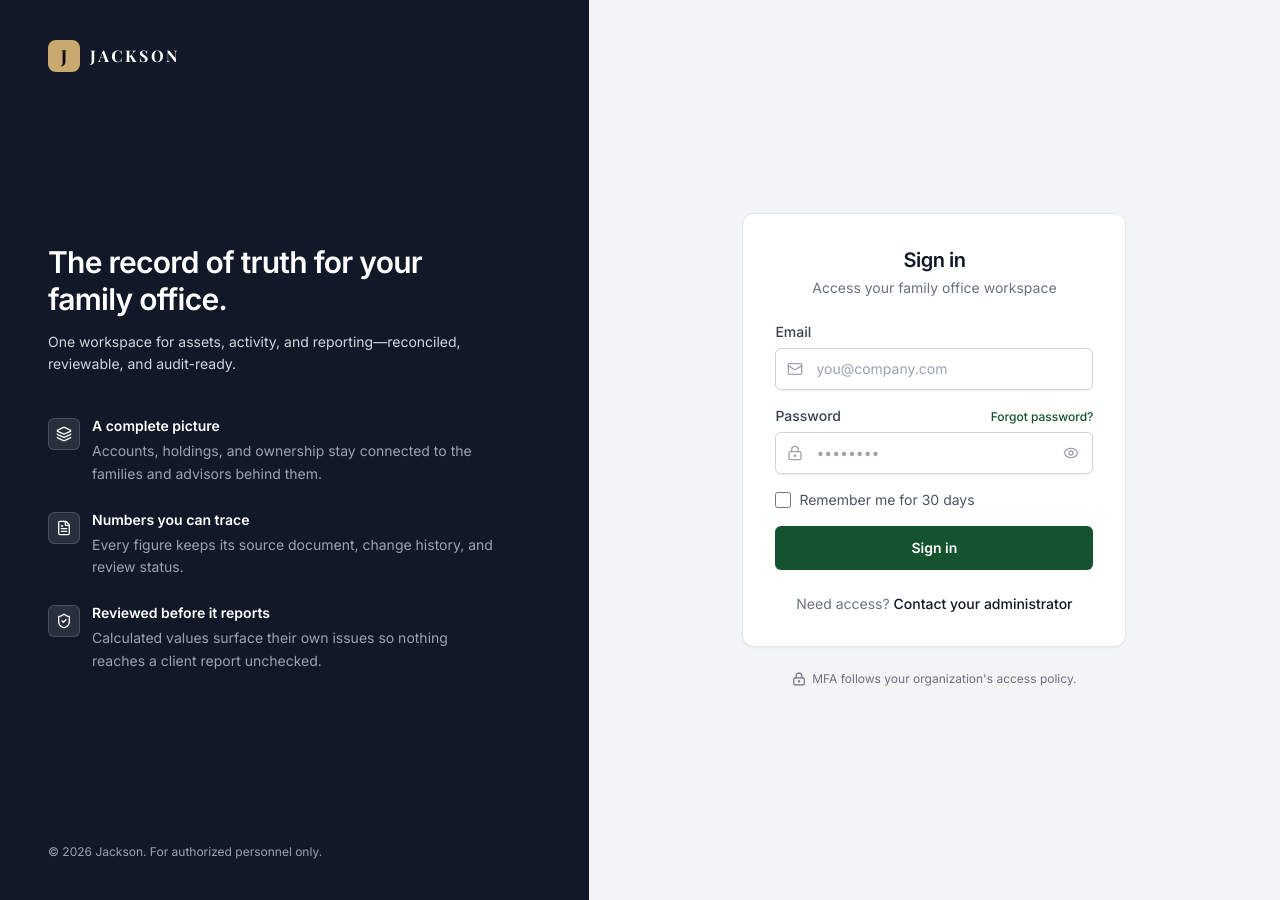
LoginPage current flow › stores enrollment state and opens MFA setup without authenticating
Step 1. Type "advisor@example.com" into the field labelled "Email" → coordinates (934, 369), box [775, 348, 1093, 390]
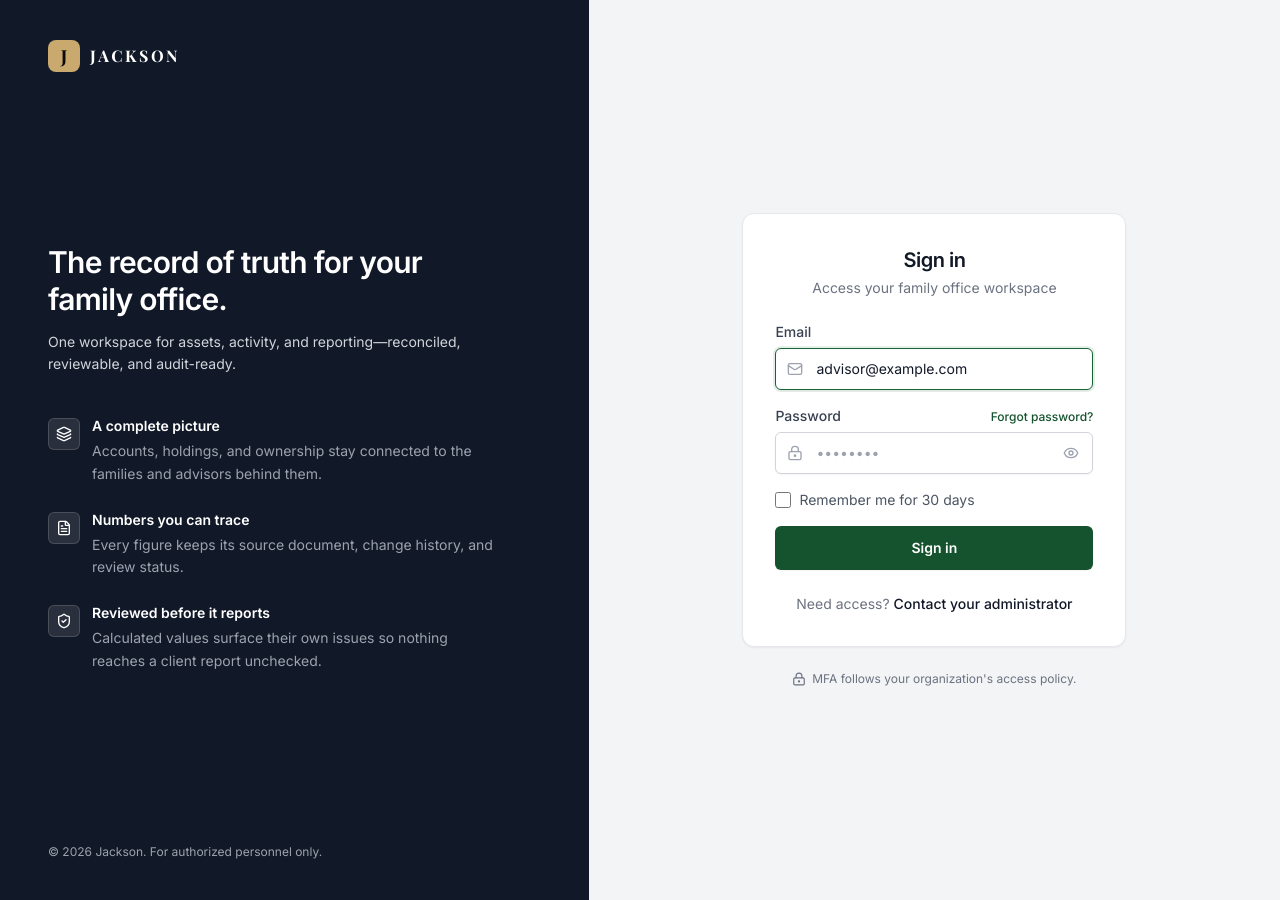
Step 2. Type "Password123!" into the password field labelled "Password" → coordinates (934, 453), box [775, 432, 1093, 474]
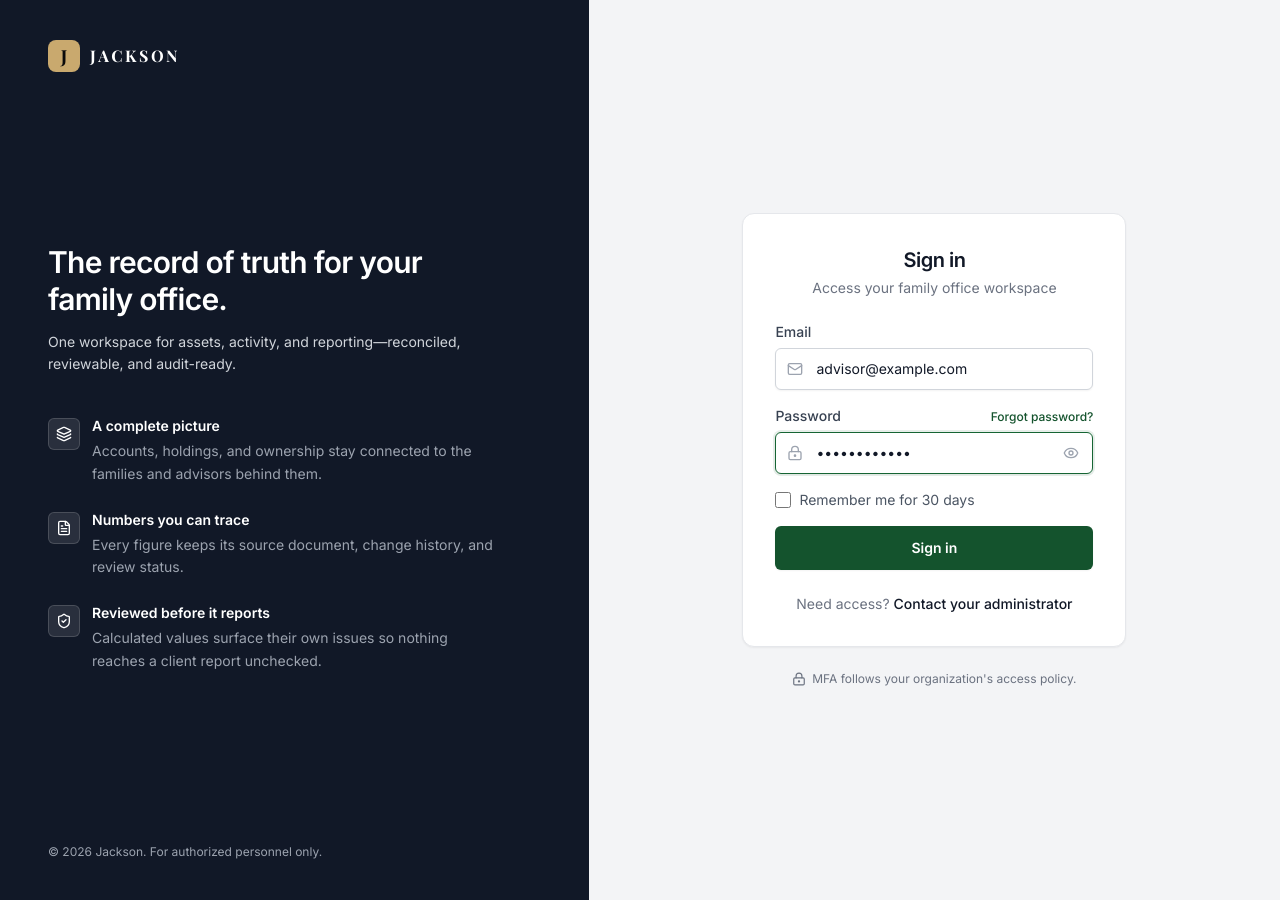
Step 3. Click the button "Sign in" → coordinates (934, 548), box [775, 526, 1093, 570]
(page scrolled)
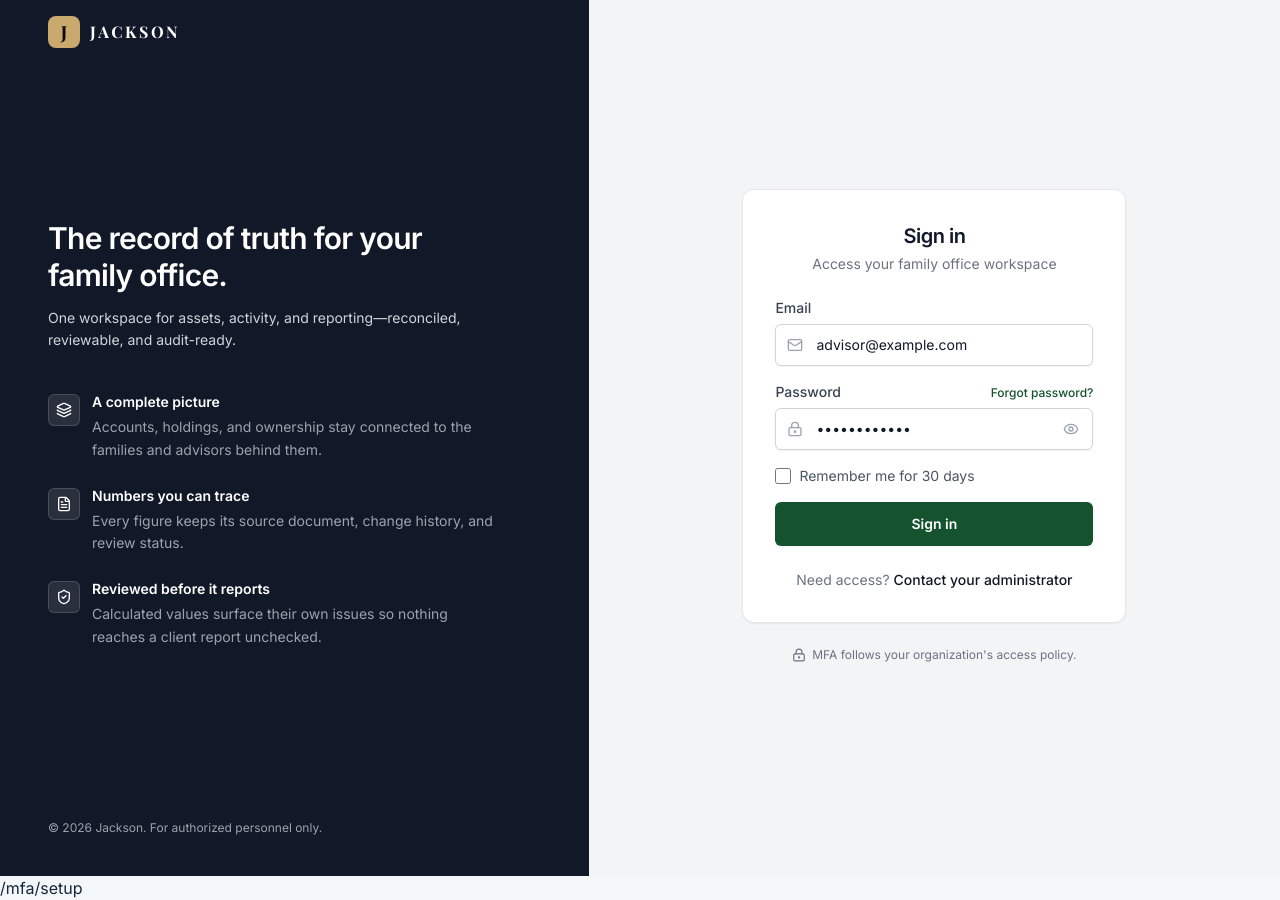
Expected: the text with test id "current-location" reads "/mfa/setup", [0, 878, 82, 898]
